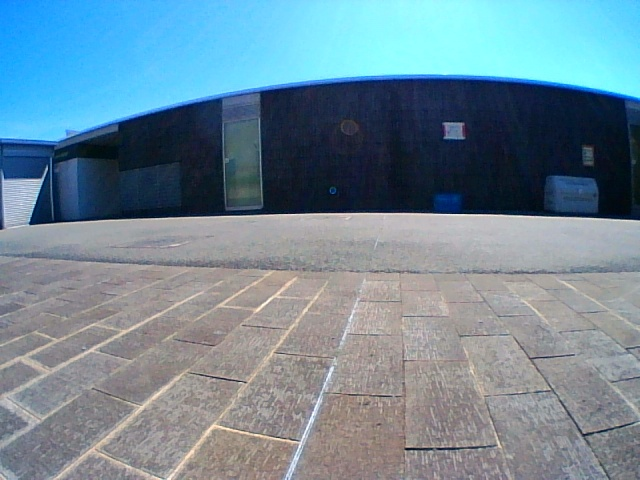blue_box: (434, 195, 459, 212)
